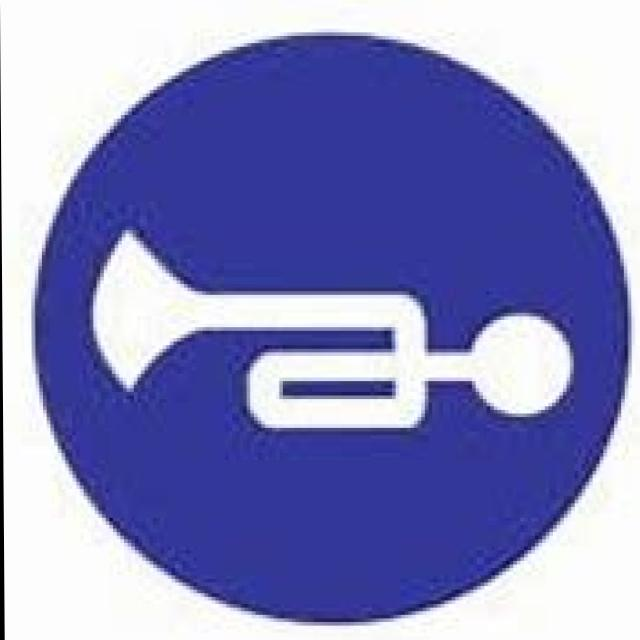COMPULSARY_SOUND_HORN: (24, 26, 628, 627)
